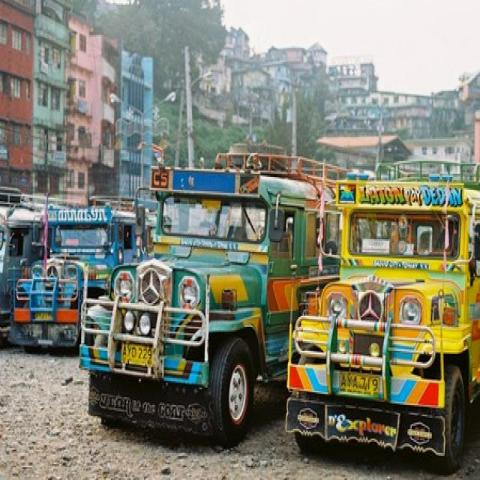jeepney: (115, 159, 299, 430), (314, 186, 480, 480), (22, 199, 133, 357)
